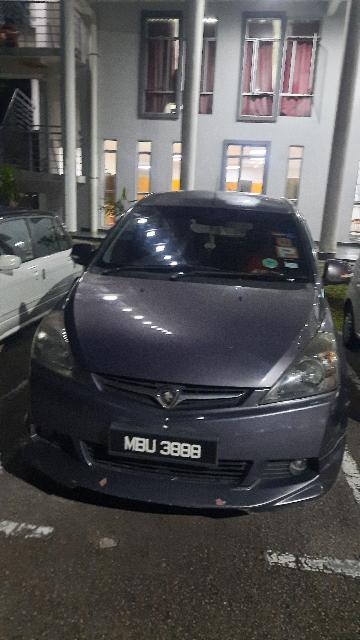License_Plate: (100, 417, 222, 469)
car: (24, 178, 351, 516)
